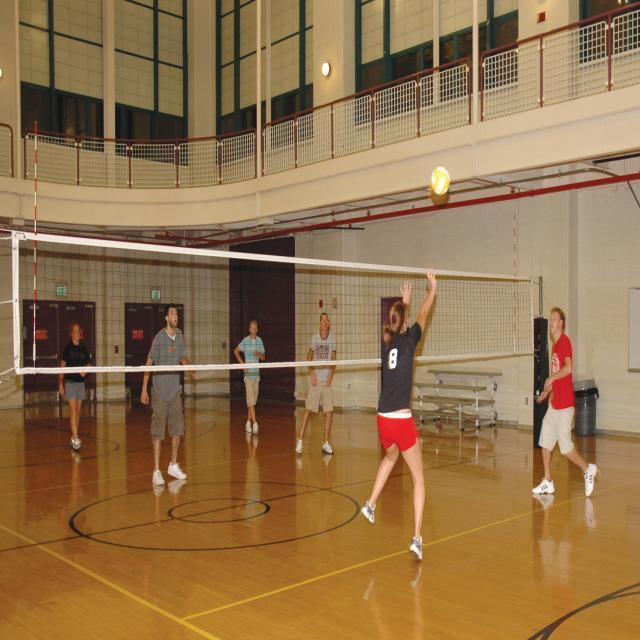volleyball: (431, 167, 450, 196)
